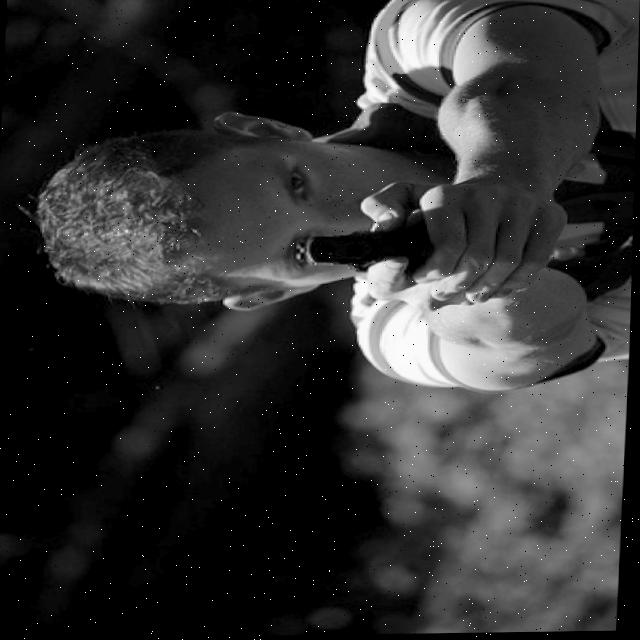pistol: (297, 232, 406, 273)
